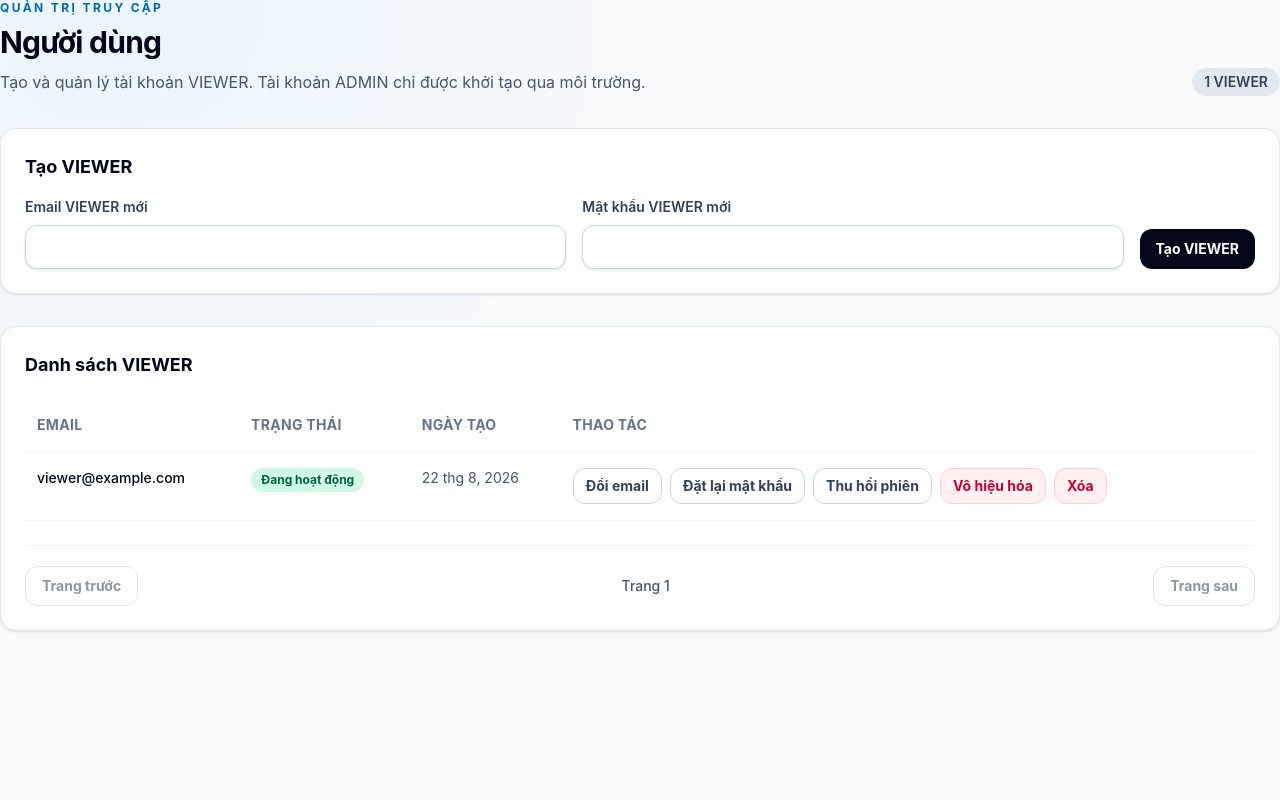
Test: UsersScreen › renders a fixed mutation error inside the active modal
This screenshot has width=1280, height=800.
Click the button "Thu hồi phiên" at (872, 486), box [813, 468, 932, 504]
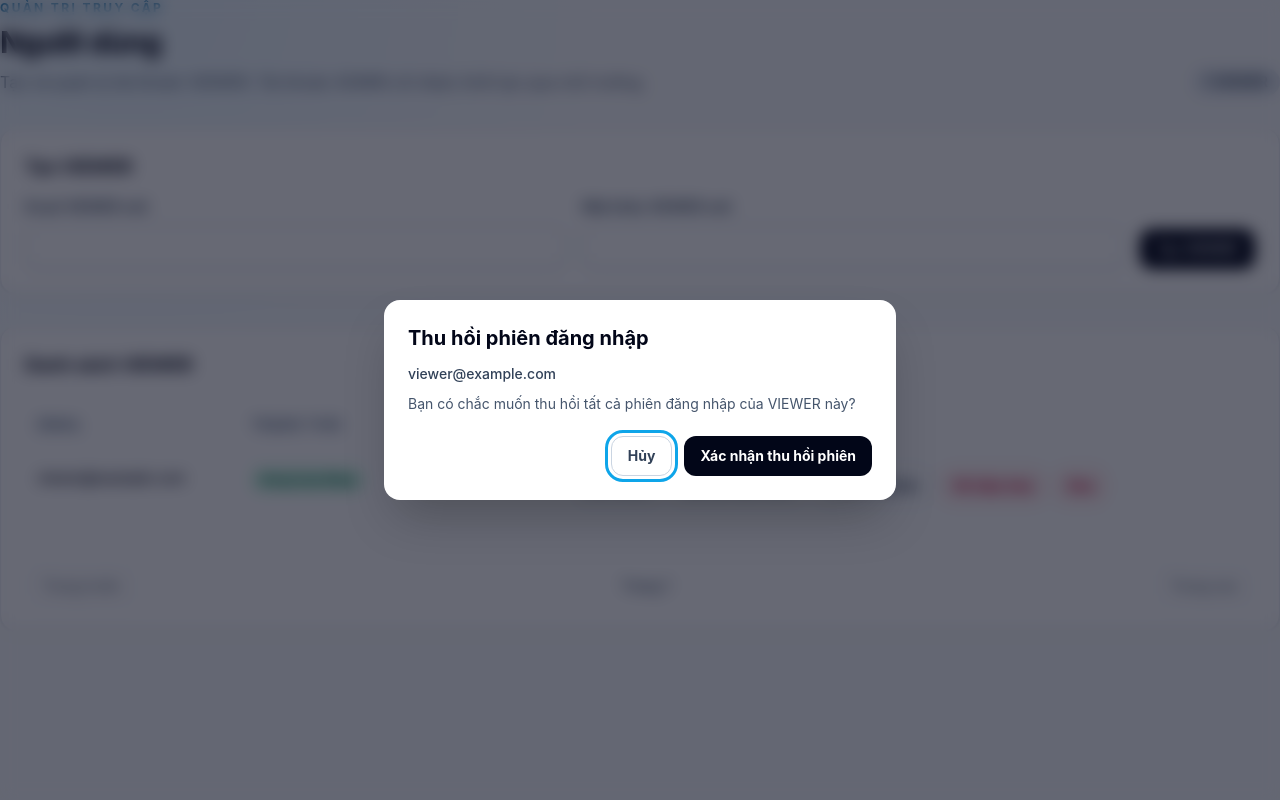
Click the button "Xác nhận thu hồi phiên" at (778, 456), box [684, 436, 872, 476]
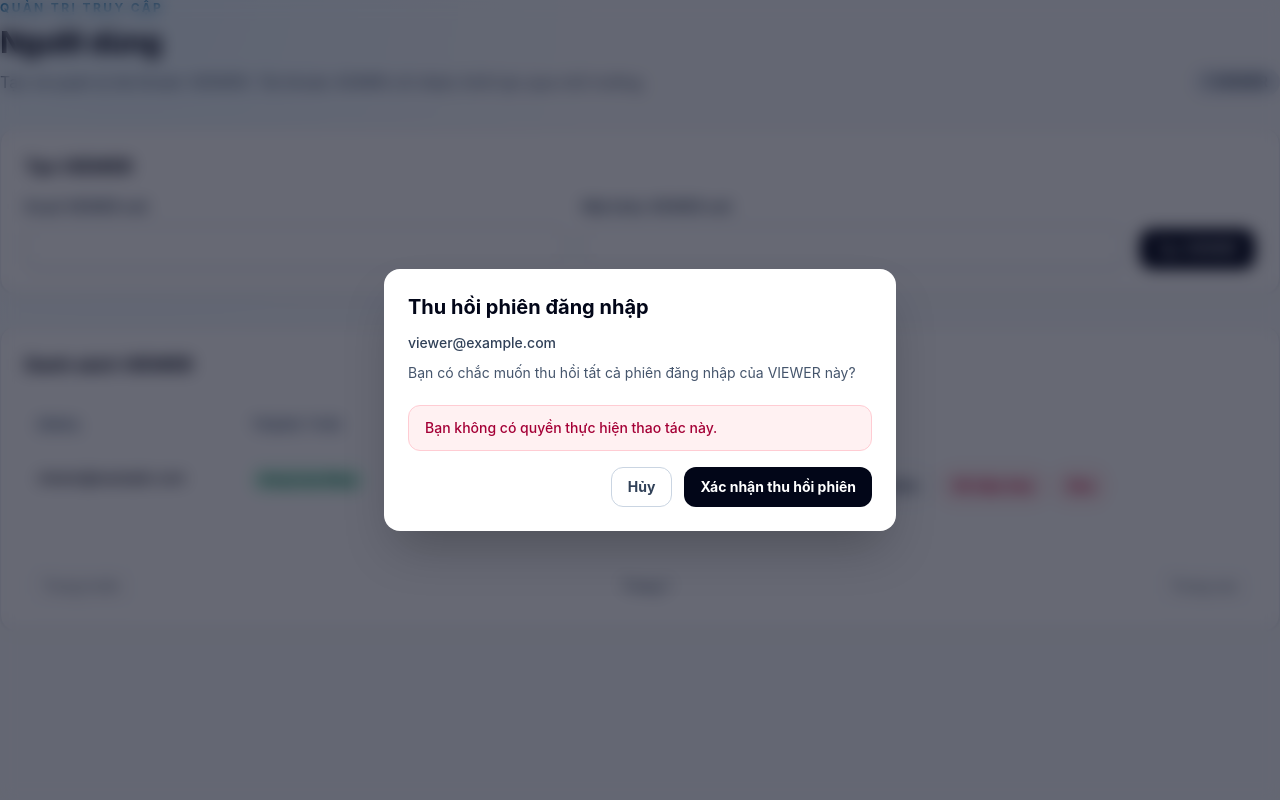
Expected: the message does not show "planted server text", [408, 405, 872, 451]
Expected: the message reads "Bạn không có quyền thực hiện thao tác này.", [425, 419, 717, 436]
